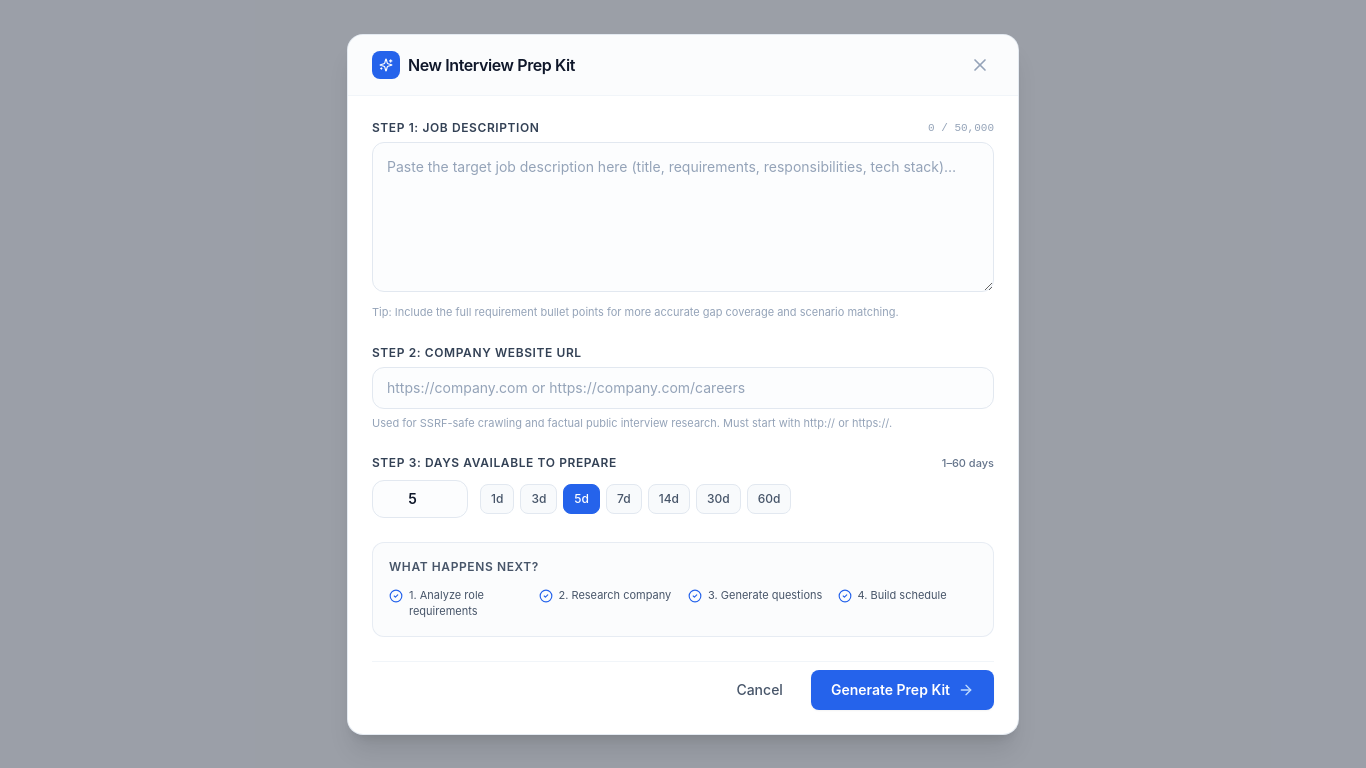
Frontend: Kit Creation › 10. shows validation error for short JD
Type "Too short" into the text box labelled "Step 1: Job Description".
click(683, 217); type("Too short")  # box [372,142,994,292]
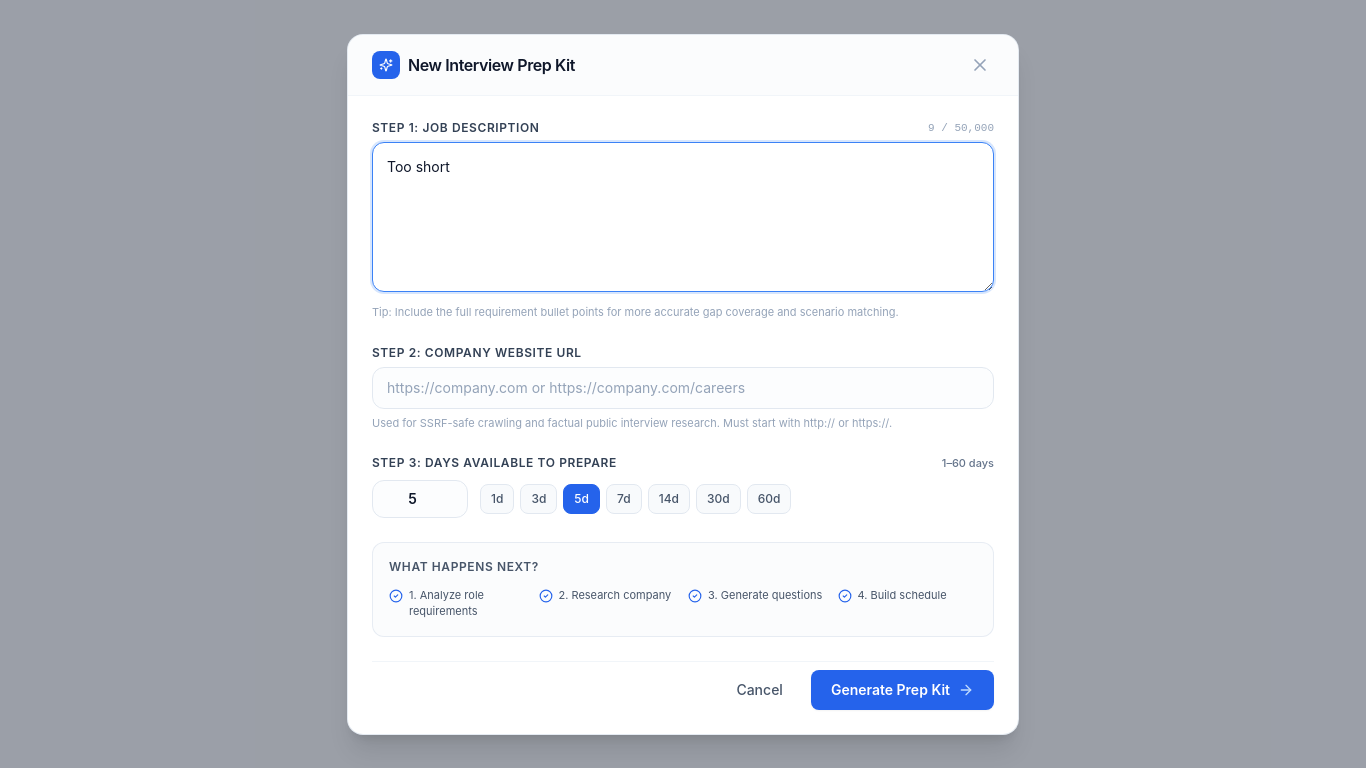
Type "https://acme.com" into the field labelled "Step 2: Company Website URL".
click(683, 388); type("https://acme.com")  # box [372,366,994,408]
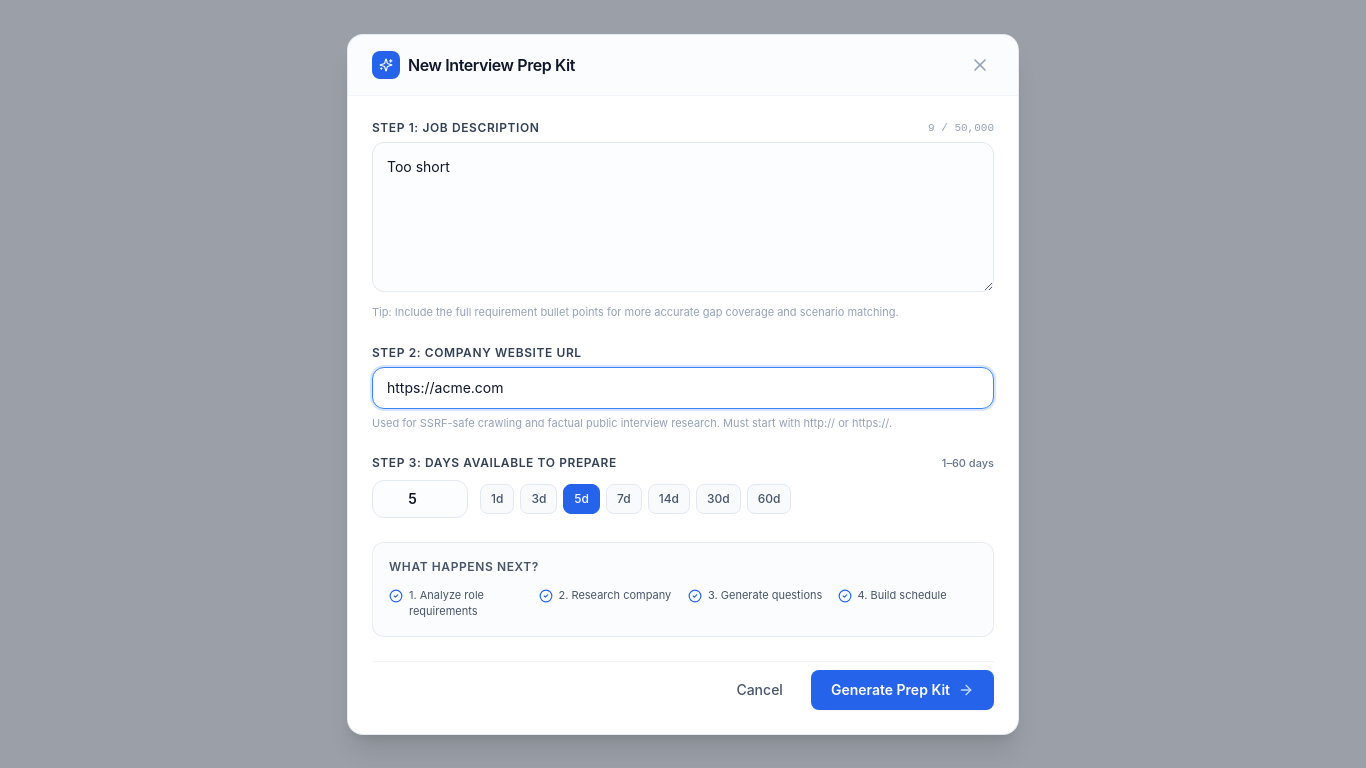
Click the button "Generate Prep Kit".
click(902, 690)  # box [811,670,994,710]
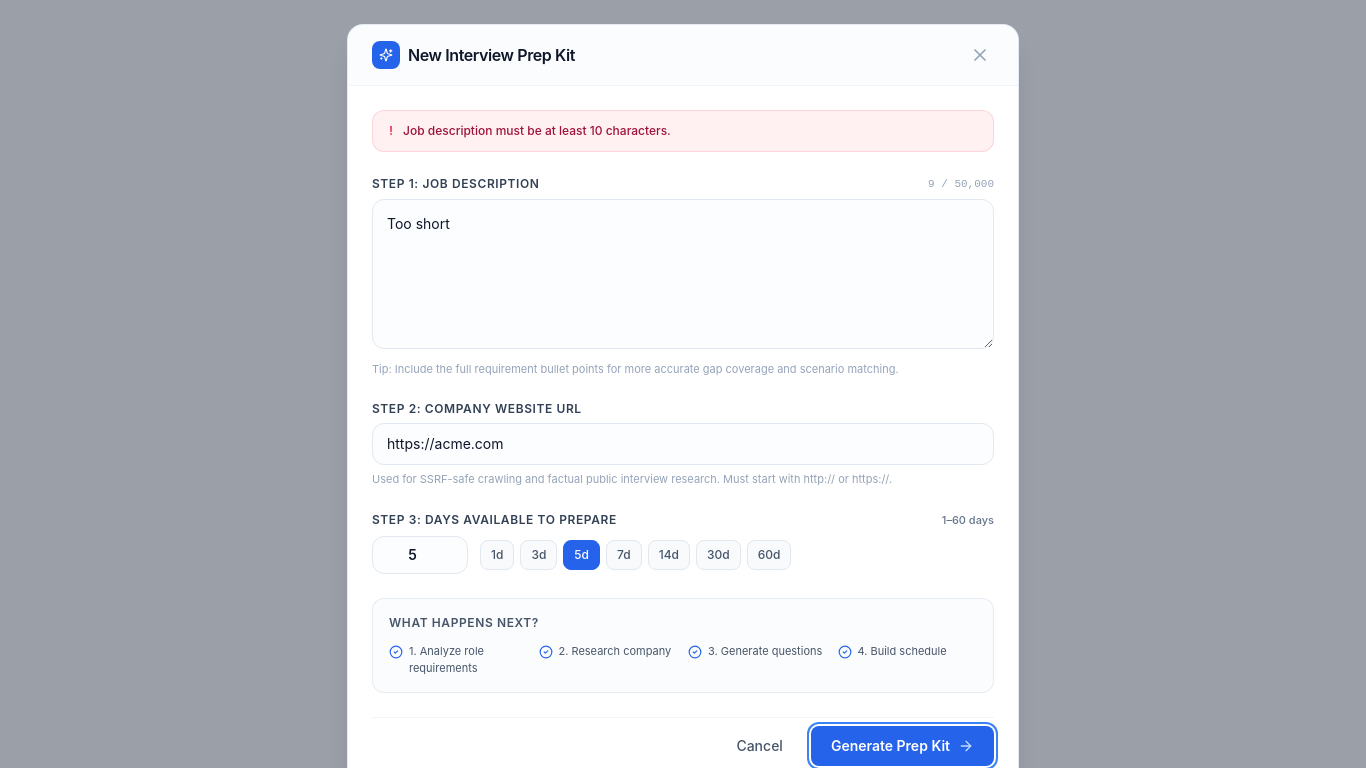
Expected: the message "! Job description must be at least 10 characters." is shown, [372,110,994,152]
